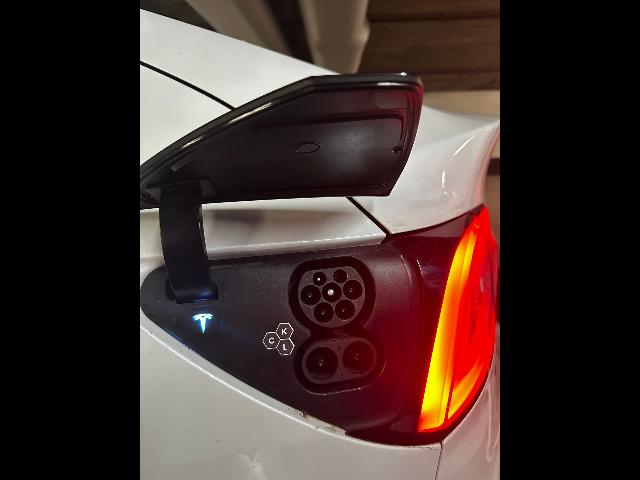inlet: (298, 266, 366, 327)
inlet-above-left: (312, 271, 327, 286)
inlet-above-right: (333, 269, 348, 283)
inlet-below-left: (313, 302, 334, 324)
inlet-below-right: (335, 300, 355, 321)
inlet-circle: (322, 282, 342, 303)
inlet-circle-left: (301, 285, 321, 306)
inlet-circle-right: (343, 280, 363, 300)
inlet-minus: (342, 341, 374, 375)
inlet-plus: (305, 347, 339, 381)
